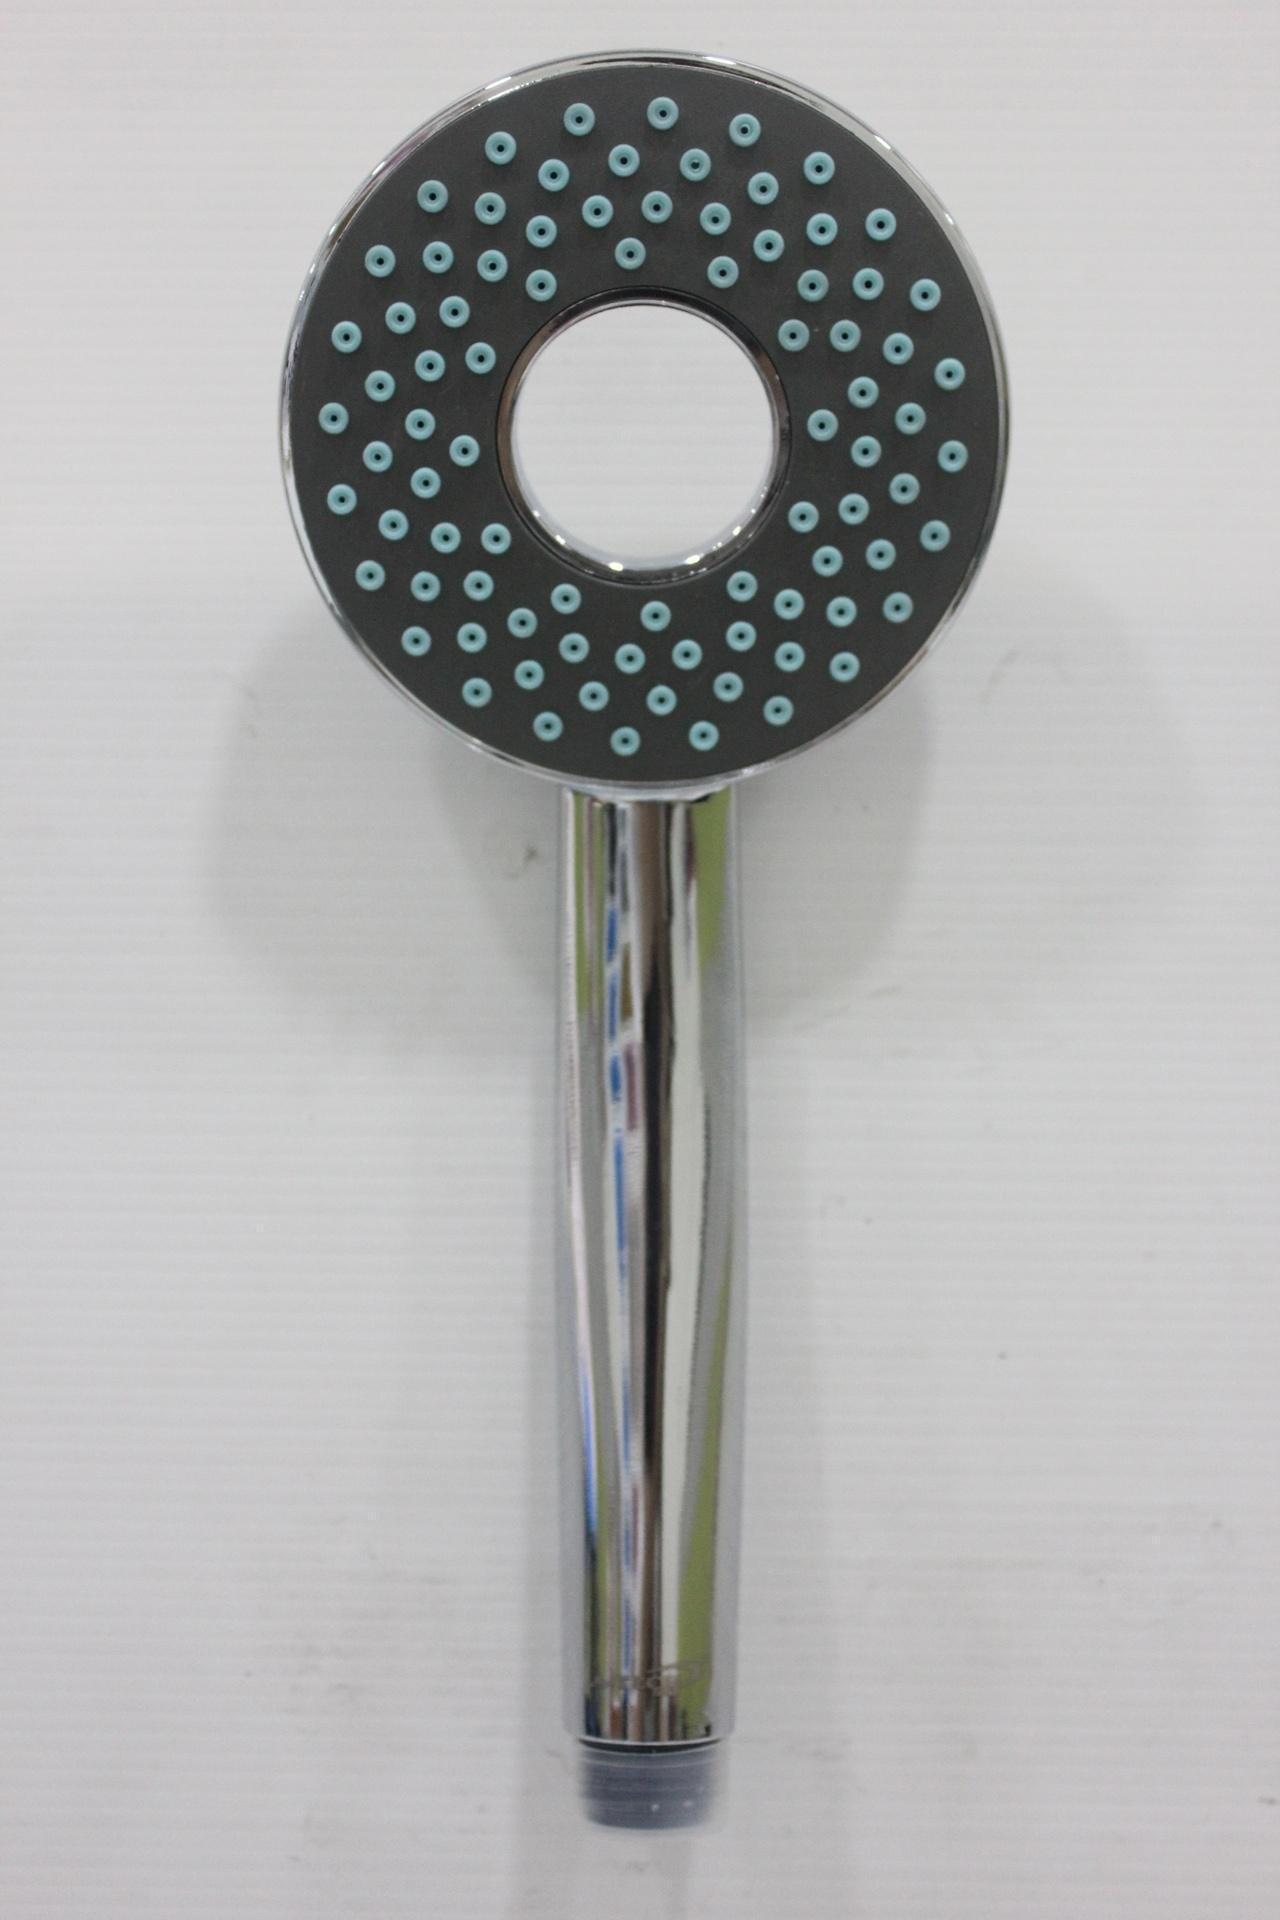Ducha: (280, 21, 1101, 1831)
